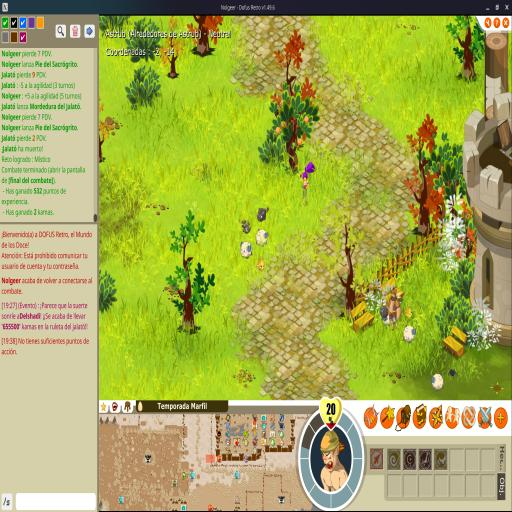Enemigos: (240, 240, 254, 260), (430, 372, 444, 392), (255, 228, 270, 246), (403, 324, 417, 343), (256, 206, 270, 223), (379, 305, 391, 322), (241, 218, 251, 235), (256, 255, 266, 272), (404, 304, 414, 320), (448, 368, 459, 380), (382, 314, 392, 326)
Personaje: (388, 288, 404, 331), (298, 162, 312, 209)
